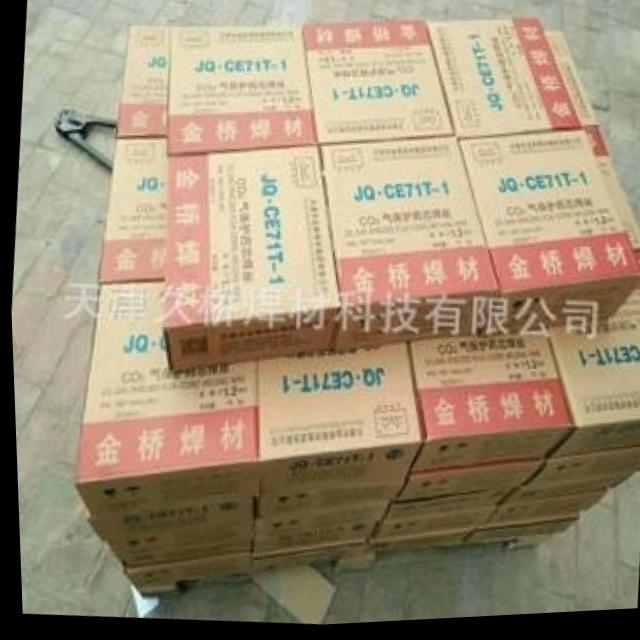box: (70, 281, 255, 520), (158, 148, 339, 373), (317, 139, 497, 356), (456, 133, 640, 342), (254, 347, 420, 500), (404, 334, 570, 479), (167, 28, 316, 156), (302, 24, 455, 147), (425, 23, 583, 142), (542, 286, 640, 463), (95, 139, 164, 282), (584, 132, 640, 258), (82, 500, 249, 542), (100, 523, 247, 570), (391, 465, 542, 507), (115, 26, 168, 139), (253, 486, 400, 521), (249, 505, 385, 542), (516, 452, 639, 492), (546, 37, 595, 132), (476, 498, 603, 534), (494, 478, 628, 512), (119, 555, 245, 591), (378, 494, 513, 527), (248, 529, 372, 562), (370, 514, 493, 545)
